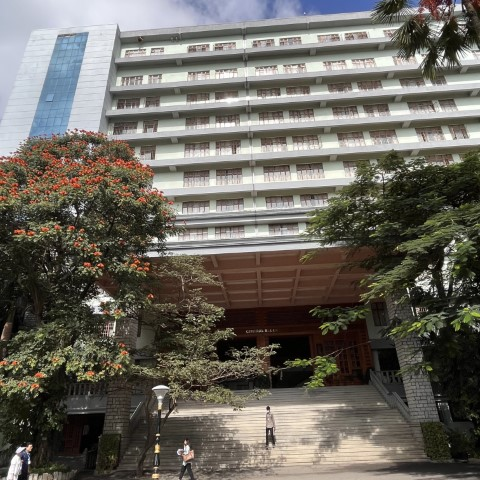Central Block: (7, 11, 480, 480)
